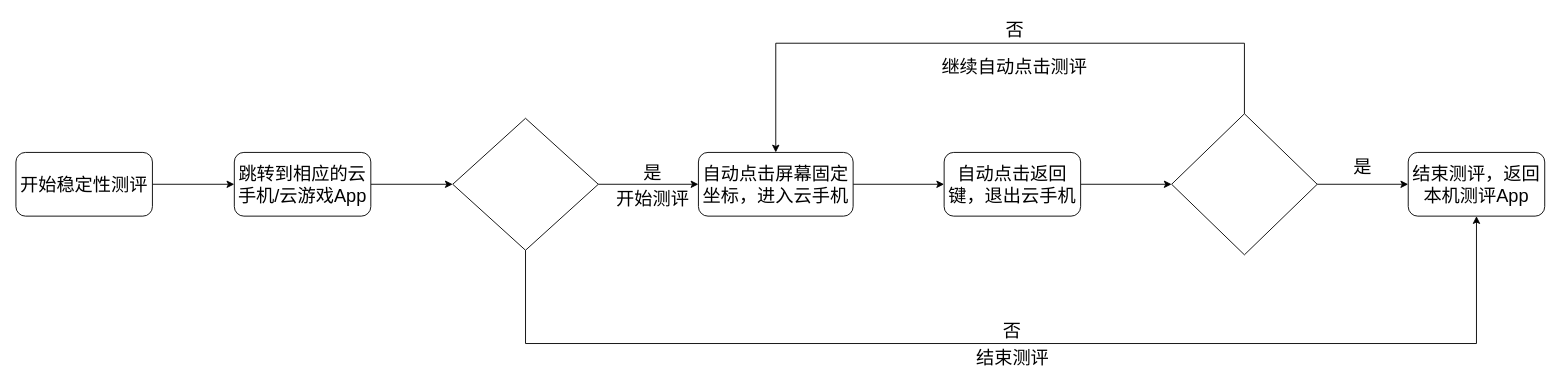
The diagram is 1561 pixels wide and 386 high, and some of its shapes have lost their labels. Here are the shapes that lost their labels. From the top down, the box of each, then its label:
(452, 117, 598, 250): 是否找到指定的测评机型
(1171, 113, 1317, 255): 是否测评完指定次数？
